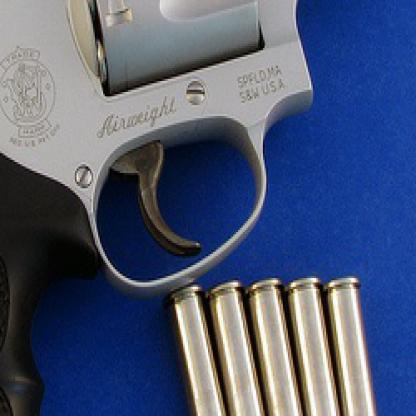gun: (0, 0, 396, 414)
